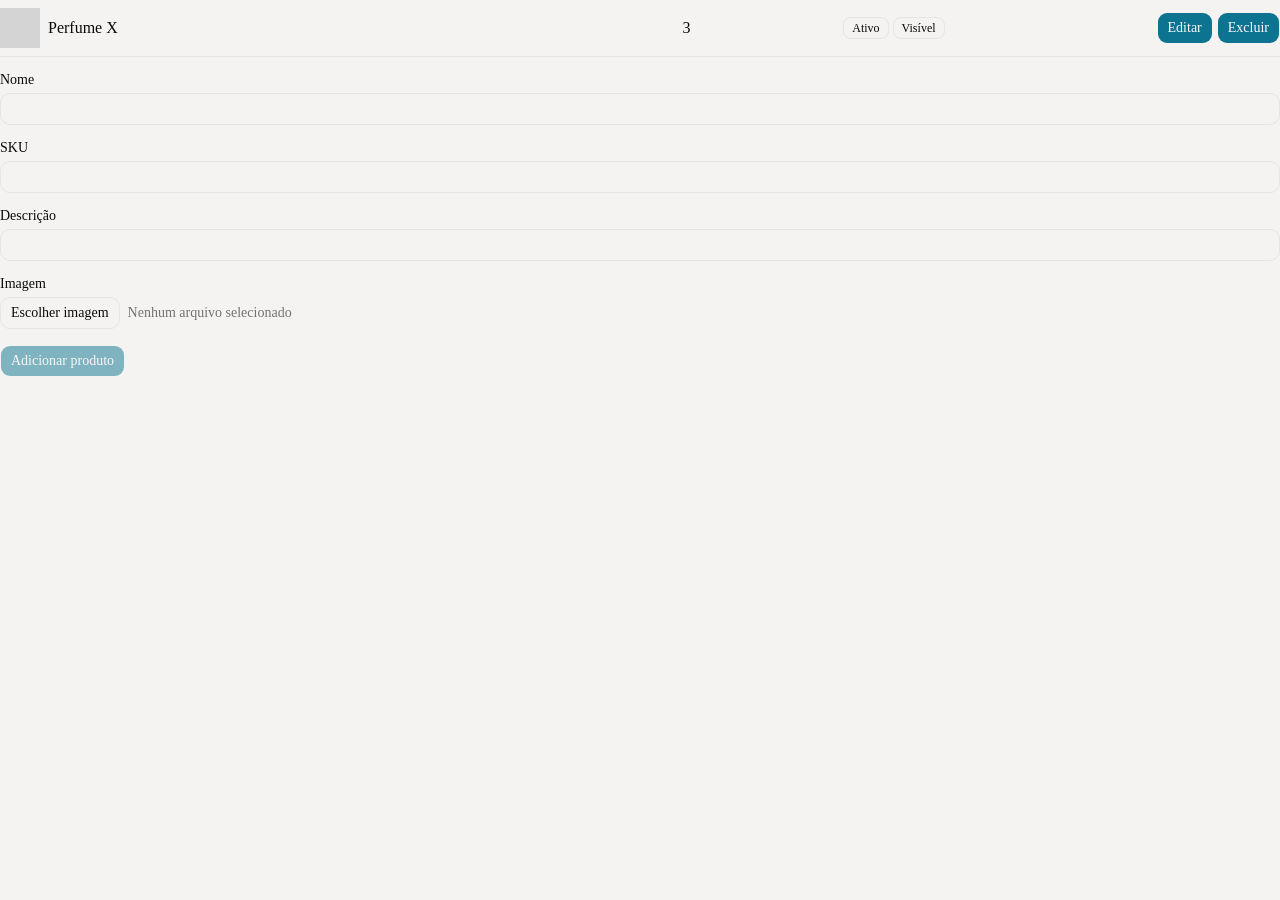
Scenario: ProductList › shows an error message when deleting a product fails
Click the button with aria-label "excluir perfume x" at [1248, 28], box [1217,12,1279,44]
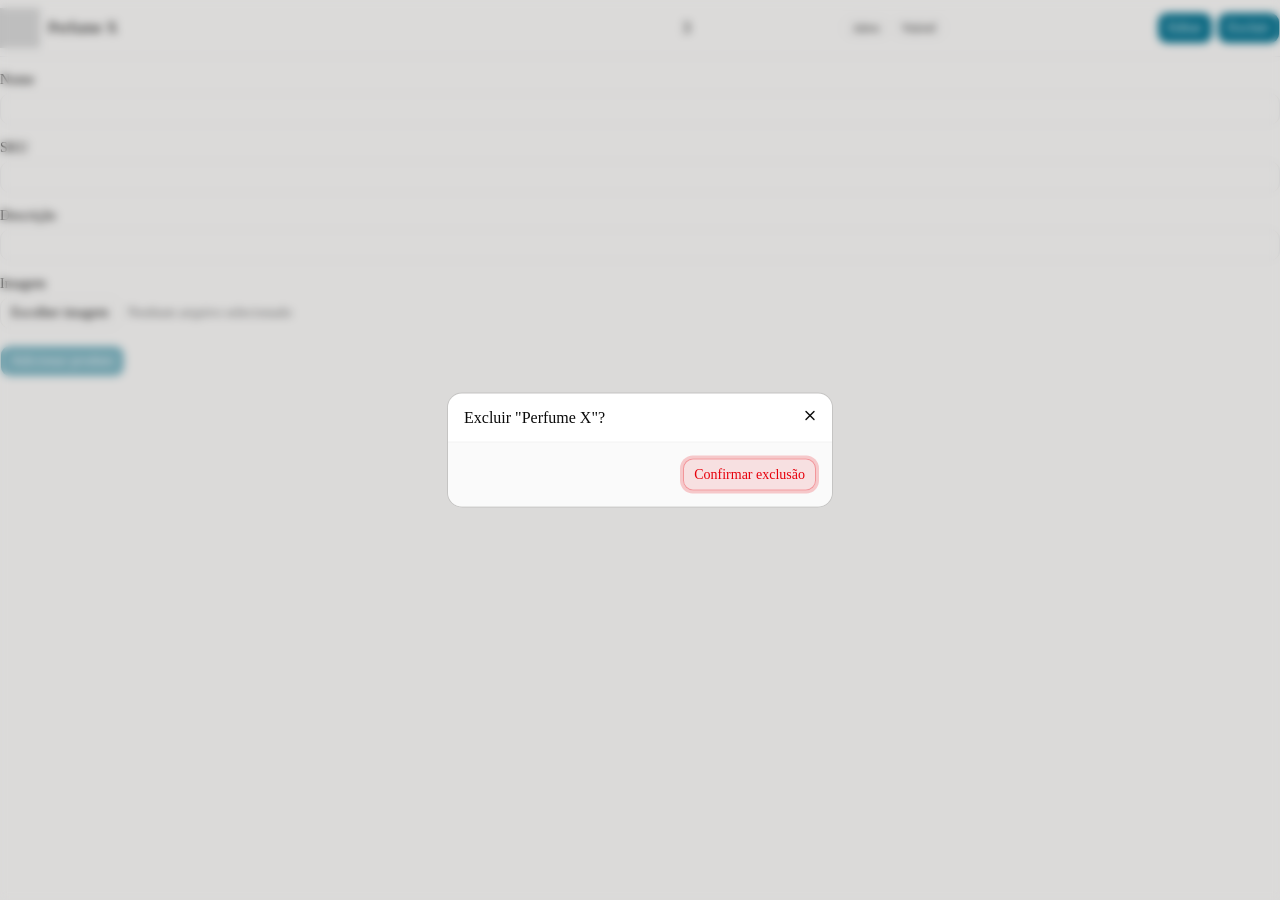
Click the button "Confirmar exclusão" at [750, 474], box [683,458,816,490]
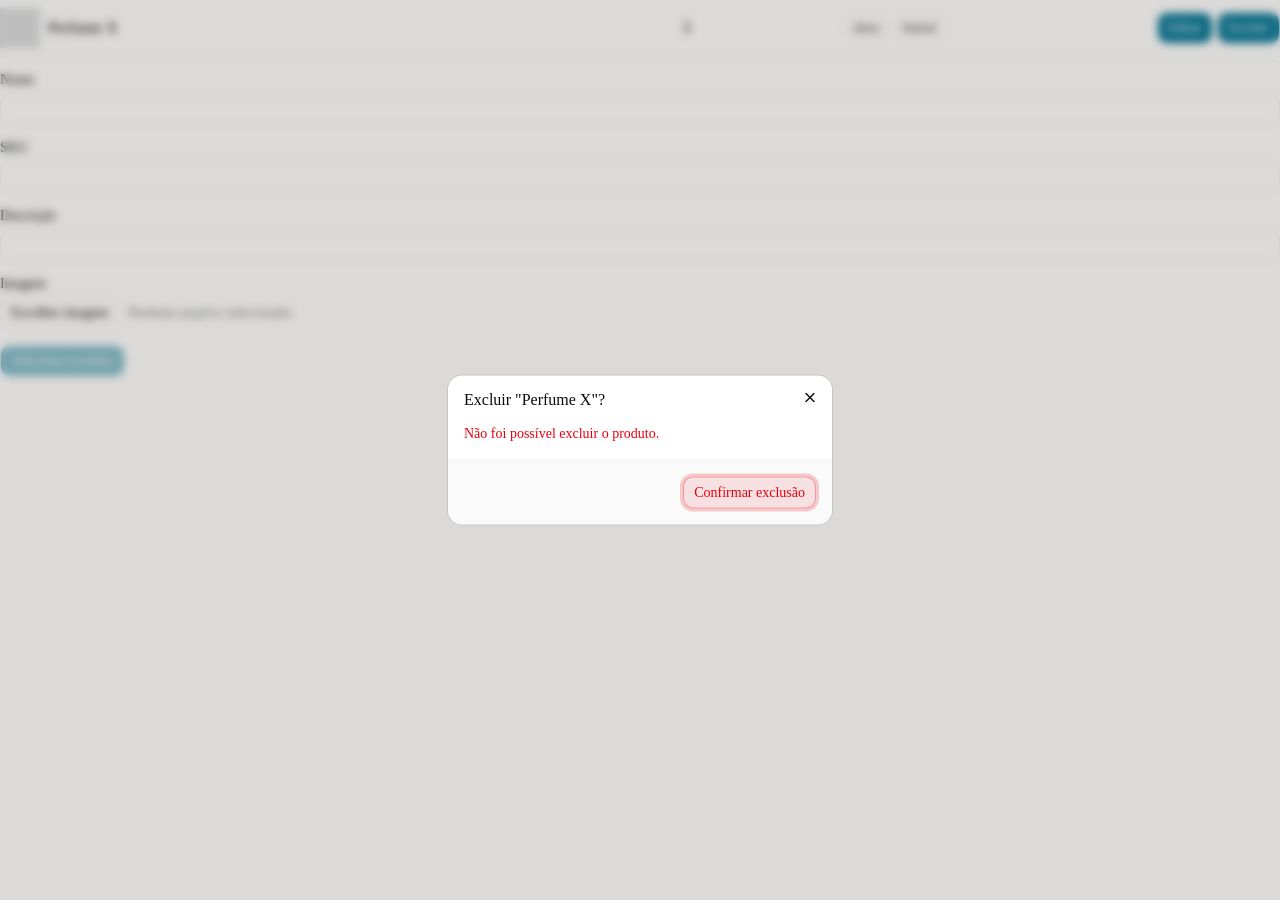
Check: the text "Não foi possível excluir o produto." is shown, box [464,426,659,440]
